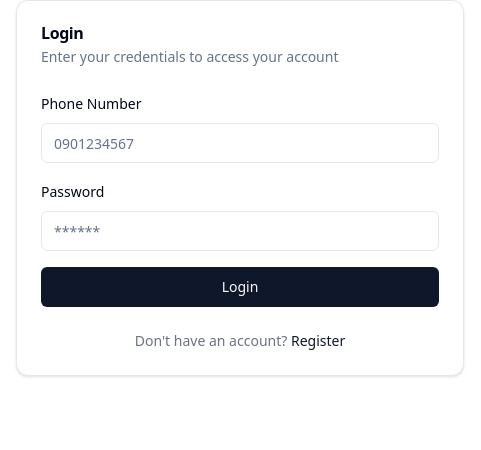
LoginForm › shows validation error for invalid phone number
The image size is (481, 450).
Type "123" into the field labelled "Phone Number".
click(240, 143); type("123")  # box [41, 123, 439, 163]
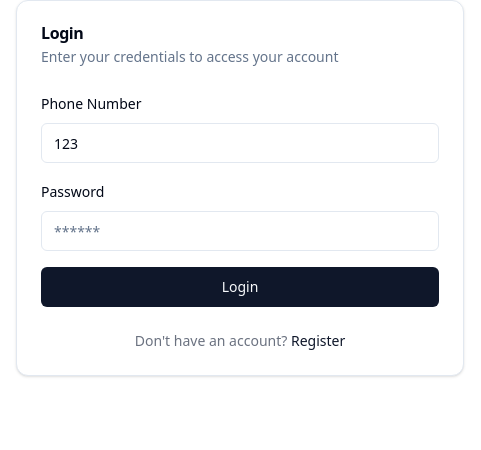
Click the button "Login".
click(240, 287)  # box [41, 267, 439, 307]
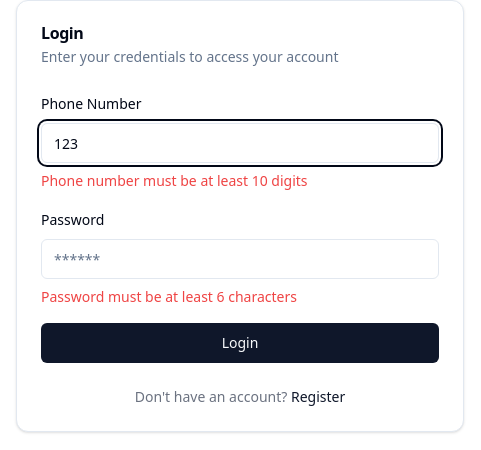
Now the text "Phone number must be at least 10 digits" is shown, box [41, 171, 308, 190]
